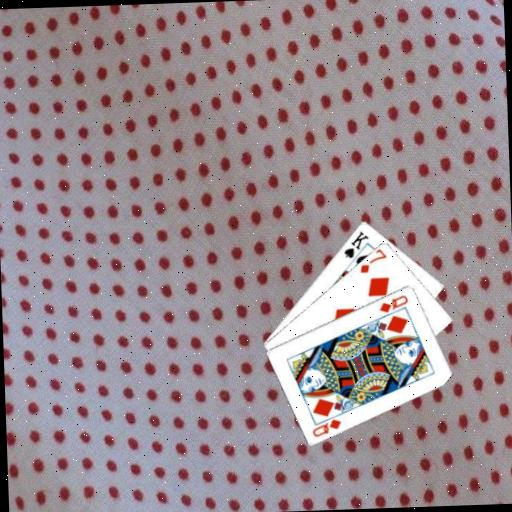7D: (355, 246, 388, 274)
KS: (340, 228, 370, 260)
QD: (376, 291, 410, 314), (309, 415, 343, 438)
